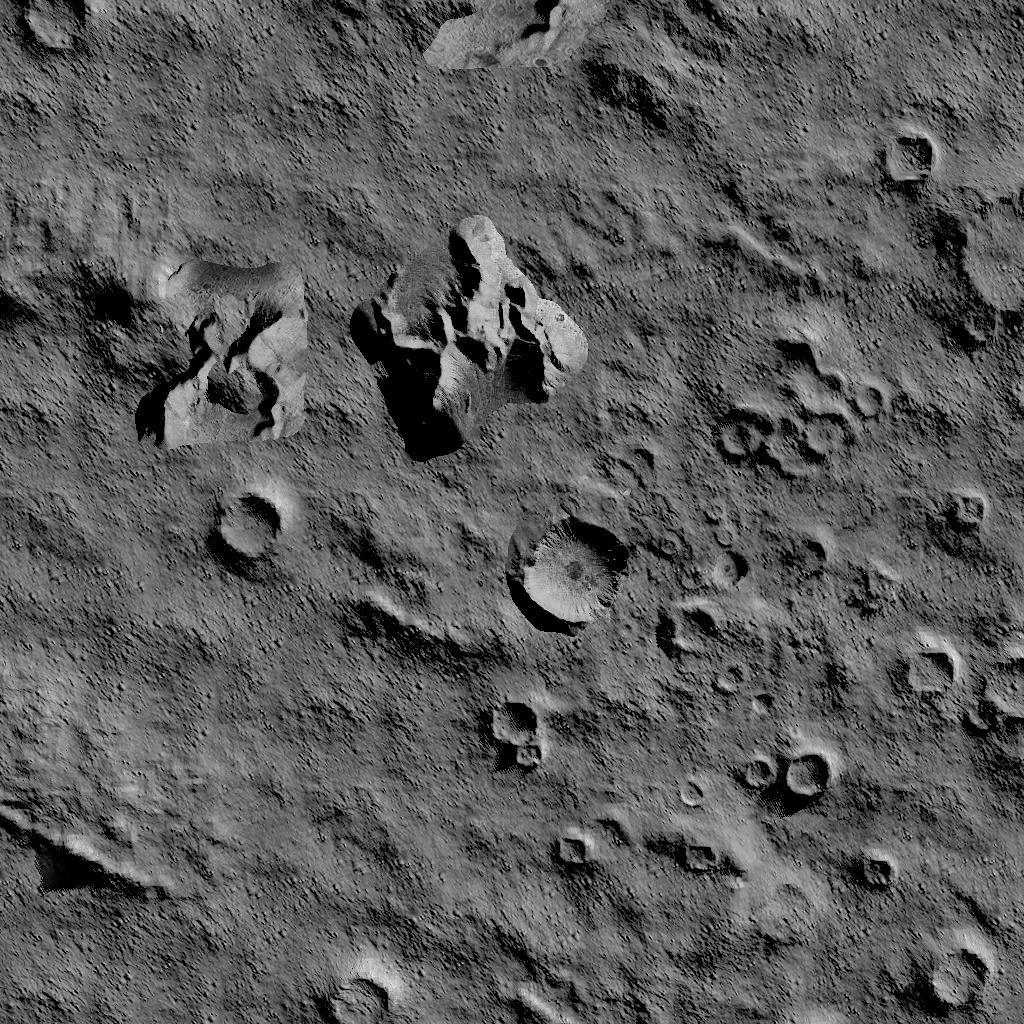Boulders: (0, 178, 311, 448), (286, 0, 745, 143), (350, 212, 590, 460), (318, 490, 493, 678), (0, 788, 191, 918), (708, 165, 862, 313), (488, 912, 626, 1024)
Crater: (711, 332, 893, 468), (506, 518, 628, 636), (958, 185, 1024, 345), (978, 640, 1024, 803), (736, 742, 838, 808), (208, 490, 288, 568), (918, 940, 992, 1020), (484, 695, 546, 775), (11, 0, 101, 55), (654, 592, 720, 660), (318, 968, 393, 1024), (876, 128, 938, 188), (901, 642, 955, 702), (543, 828, 593, 872), (944, 488, 988, 532), (676, 838, 720, 878)
Plan surface: (213, 690, 473, 958), (0, 460, 198, 775), (766, 0, 1024, 113), (0, 68, 273, 162), (0, 928, 198, 1024)
